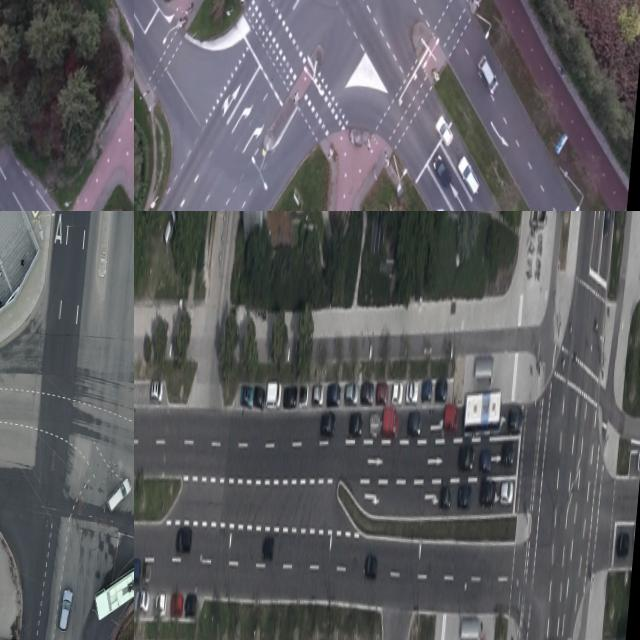UAI: (455, 154, 483, 194), (475, 53, 500, 96), (106, 476, 133, 514), (56, 586, 75, 635), (431, 153, 453, 188), (161, 211, 177, 253), (434, 115, 454, 147), (507, 401, 524, 434), (383, 407, 400, 440), (443, 403, 460, 434), (457, 443, 475, 471), (407, 408, 423, 438), (321, 409, 337, 439), (266, 379, 282, 409), (479, 479, 496, 507), (176, 527, 193, 552), (500, 439, 515, 467), (134, 588, 150, 613), (615, 532, 630, 558), (499, 480, 514, 505), (457, 483, 472, 508), (348, 411, 363, 436), (326, 382, 341, 407), (183, 591, 197, 617), (364, 555, 378, 580), (361, 380, 375, 405), (262, 536, 275, 562), (369, 411, 381, 439), (155, 588, 167, 616), (284, 384, 298, 408), (345, 382, 359, 406), (479, 448, 492, 473), (439, 484, 452, 509), (253, 385, 266, 410), (376, 380, 389, 405), (150, 379, 164, 402), (435, 378, 449, 401), (240, 384, 254, 406), (392, 380, 404, 405), (171, 592, 184, 615), (406, 380, 419, 403), (602, 211, 613, 237), (312, 383, 325, 405), (421, 378, 433, 401), (299, 383, 309, 406), (143, 561, 152, 583), (134, 556, 141, 584)
car: (93, 545, 134, 628), (462, 386, 503, 438)
